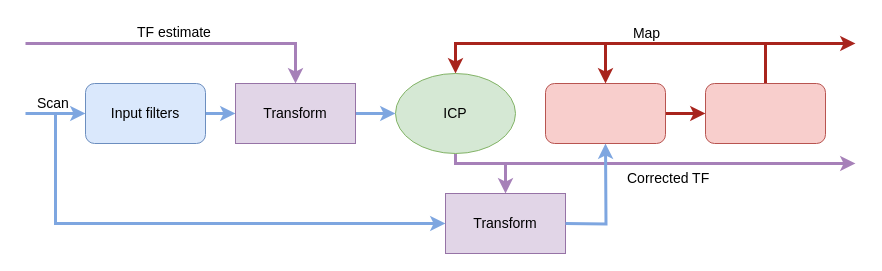
Image size: 882x271. Some labels were removed from this diagram. The box of each missing label's shape, as (x1, y1, x2, y2) in pixels:
Mapper modules: (544, 82, 666, 144)
Post filters: (704, 82, 826, 144)
